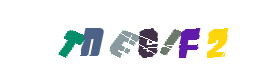2: (177, 0, 257, 80)
6: (90, 0, 170, 80)
E: (83, 0, 163, 80)
F: (148, 0, 228, 80)
I: (107, 0, 187, 80)
N: (76, 0, 156, 80)
T: (31, 0, 111, 80)
